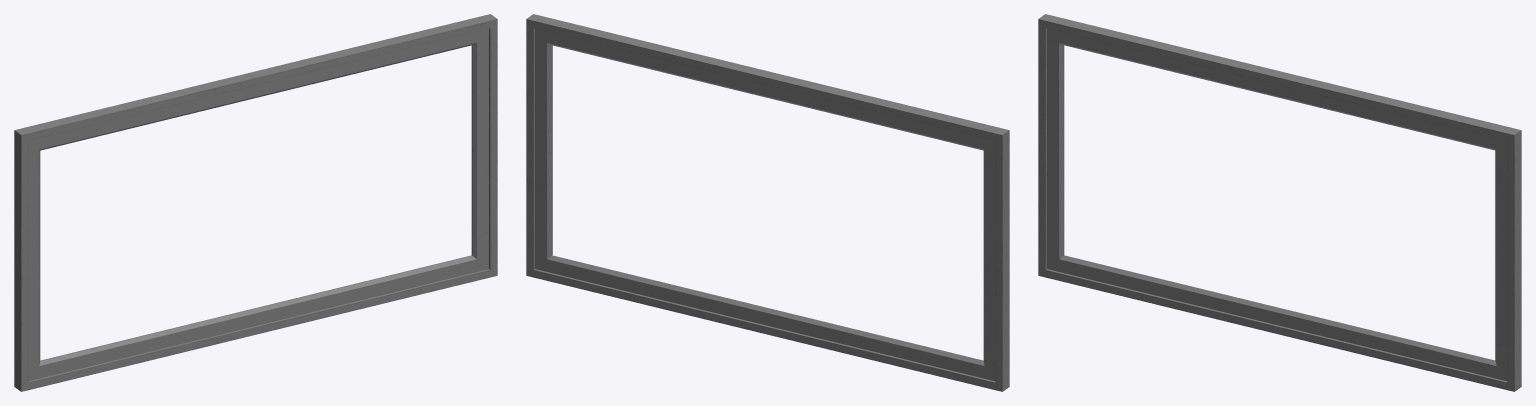
File: Ventana.obj
3 renders of one model, left to right at view 1: azimuth 30°, elevation 25°; view 2: azimuth 150°, elevation 25°; view 3: azimuth 330°, elevation 25°, orthographic.
Visible parts, largest first — view 1: Office_Window_GS_Office_WindowSG.002; view 2: Office_Window_GS_Office_WindowSG.002; view 3: Office_Window_GS_Office_WindowSG.002.
Boxes of the visible parts, box(x1,y1,x2,y2) form: Office_Window_GS_Office_WindowSG.002: box(14, 14, 497, 391); Office_Window_GS_Office_WindowSG.002: box(526, 14, 1009, 391); Office_Window_GS_Office_WindowSG.002: box(1038, 14, 1521, 391).
Bounding box in the file's own units: 251 × 130 × 6.37.
1 material, 1 textured.
